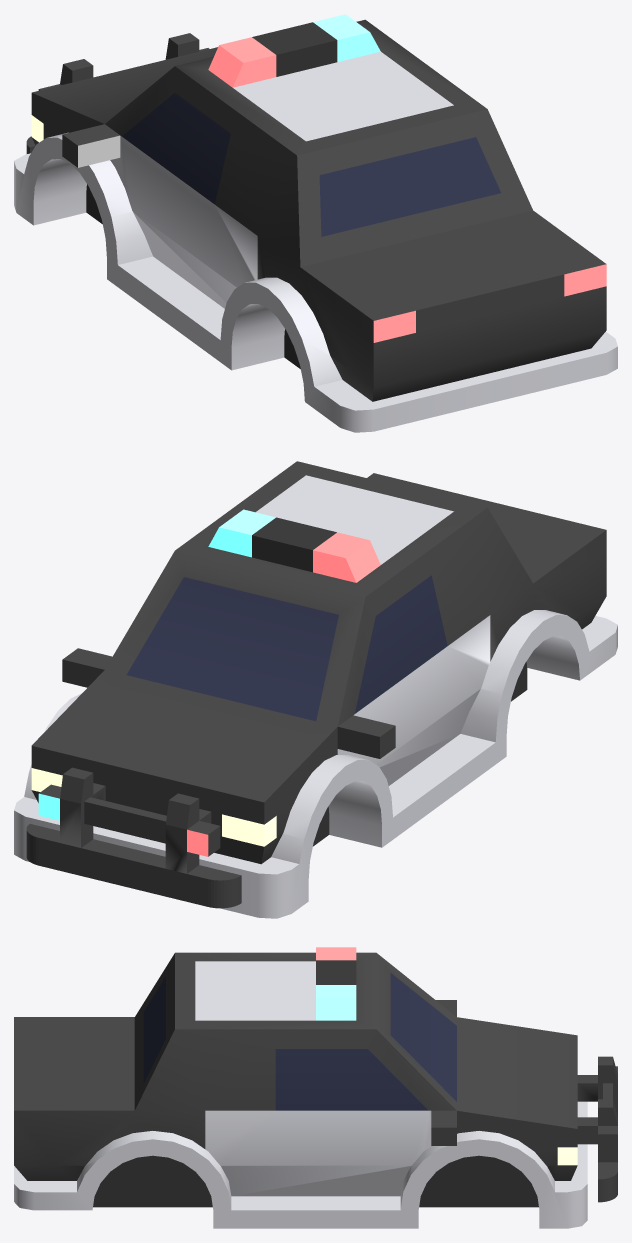
The model's file is SM_Police_Body.fbx.
3 renders of one model, top to bottom at view 1: azimuth 30°, elevation 25°; view 2: azimuth 150°, elevation 25°; view 3: azimuth 270°, elevation 25°, orthographic. The views are drawn at different scales.
Visible parts, largest first — view 1: SM_Police_Body; view 2: SM_Police_Body; view 3: SM_Police_Body.
Part boxes in pixels (x1,y1,x2,y2): SM_Police_Body: [14, 14, 617, 432]; SM_Police_Body: [14, 461, 617, 918]; SM_Police_Body: [14, 947, 617, 1228].
Bounding box in the file's own units: 1.5 × 1.1 × 3.
